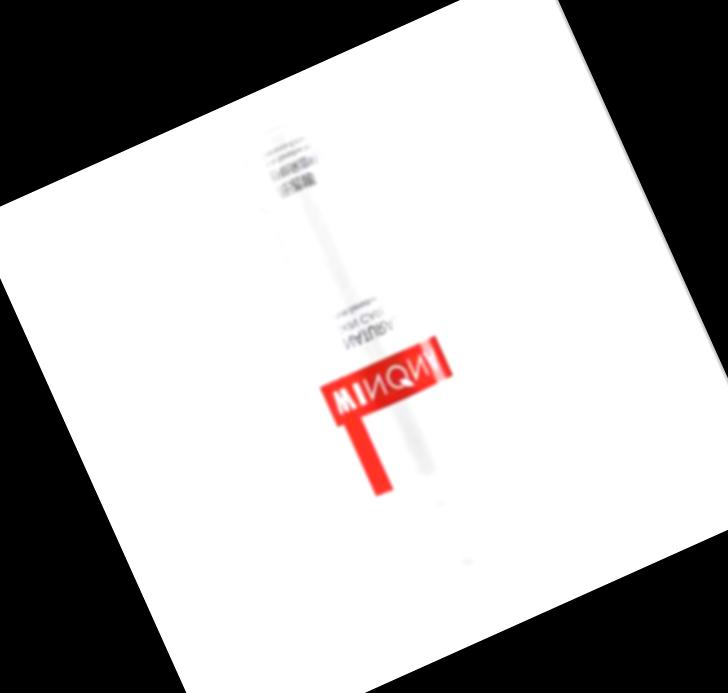cosmetic: (210, 99, 547, 633)
